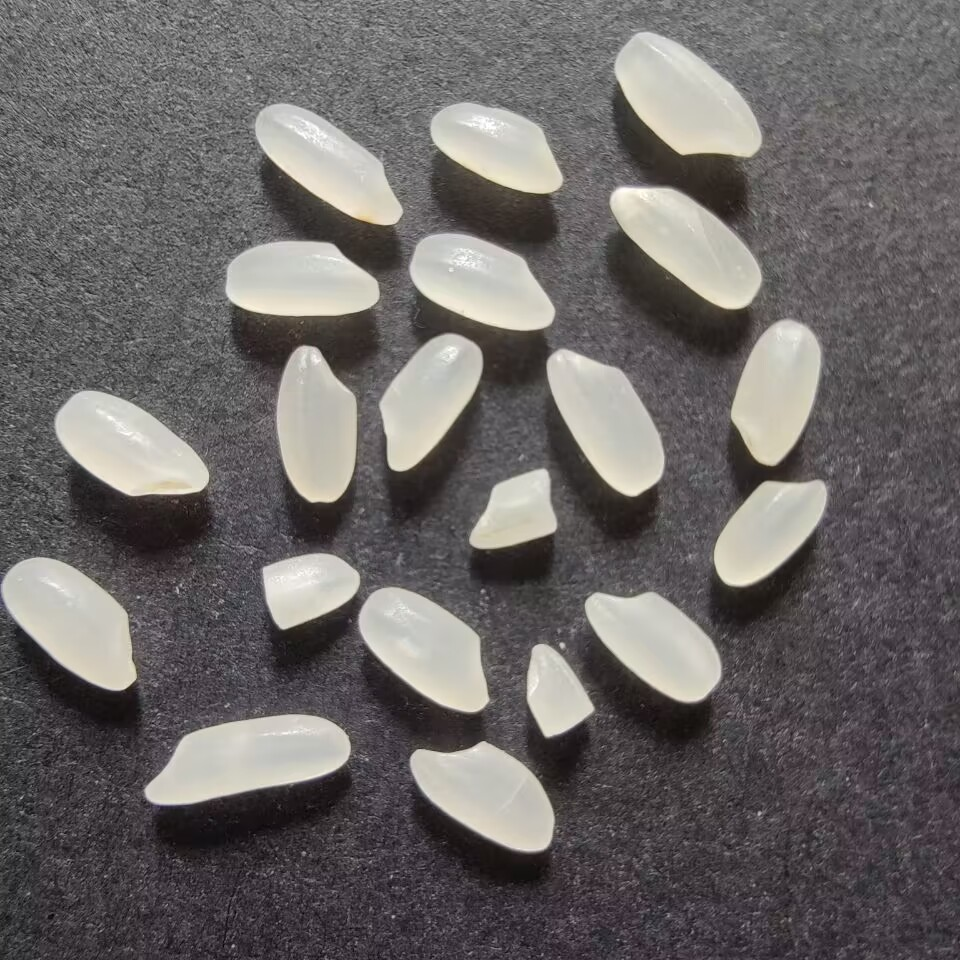broken: (252, 549, 366, 636), (463, 463, 563, 557), (522, 640, 600, 744)
rice: (140, 707, 356, 812), (602, 183, 766, 315), (611, 28, 765, 163), (249, 99, 409, 228), (1, 555, 142, 694), (543, 346, 668, 501), (352, 580, 492, 715), (405, 736, 558, 856), (51, 387, 213, 500), (581, 586, 725, 709), (374, 330, 487, 477), (269, 343, 365, 510), (405, 229, 559, 333), (725, 316, 826, 472), (709, 474, 833, 592), (428, 101, 567, 199), (221, 239, 384, 320)
